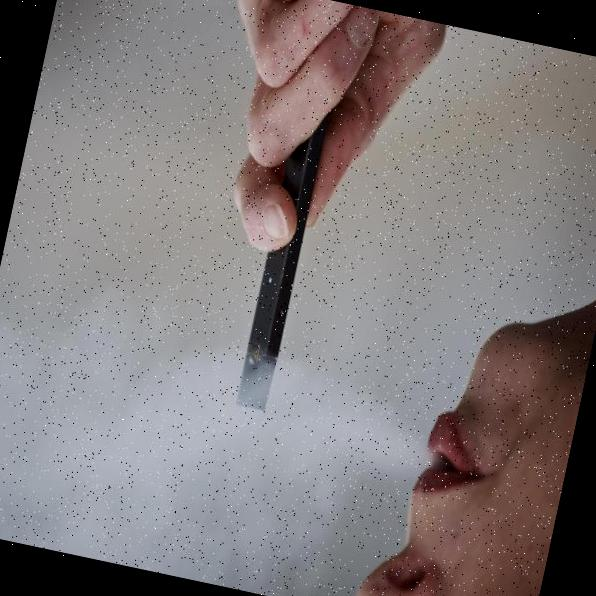smoke: (0, 297, 383, 596)
